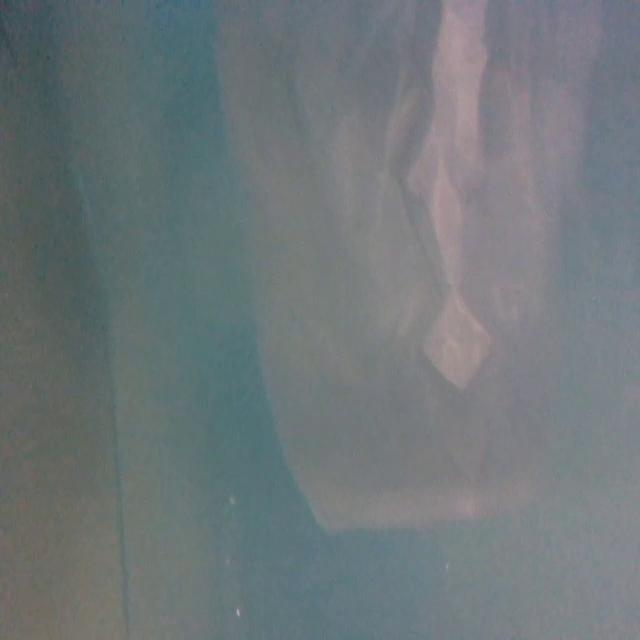plastic bags: (238, 4, 611, 528)
